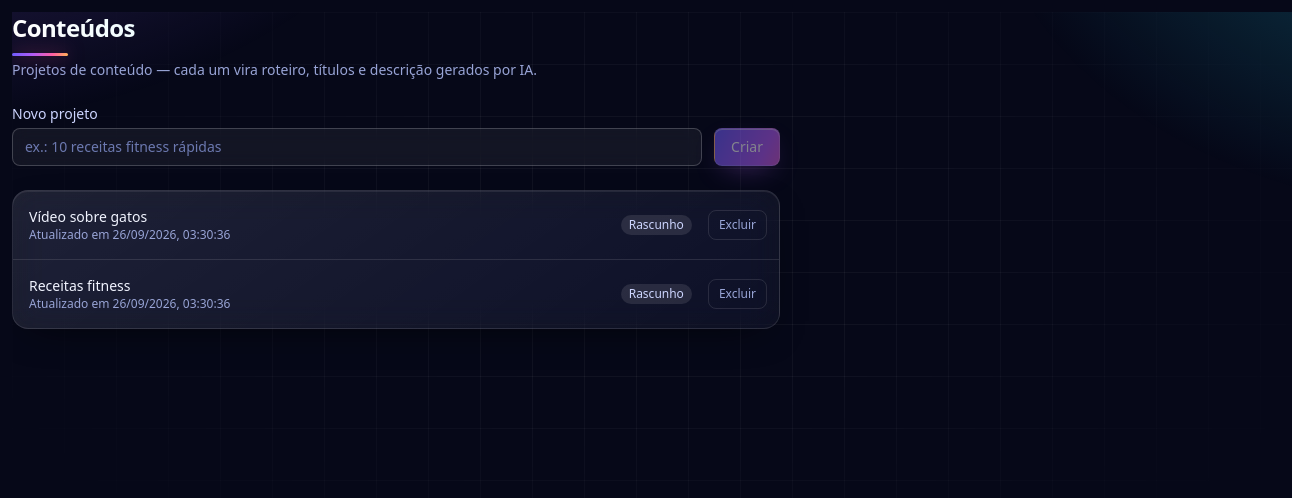
it: ContentProjectsPage › excluir conteúdo › exclui depois de confirmar e tira o item da lista
Click the button with aria-label "Excluir conteúdo Vídeo sobre gatos" at (737, 225), box [708,210,767,240]
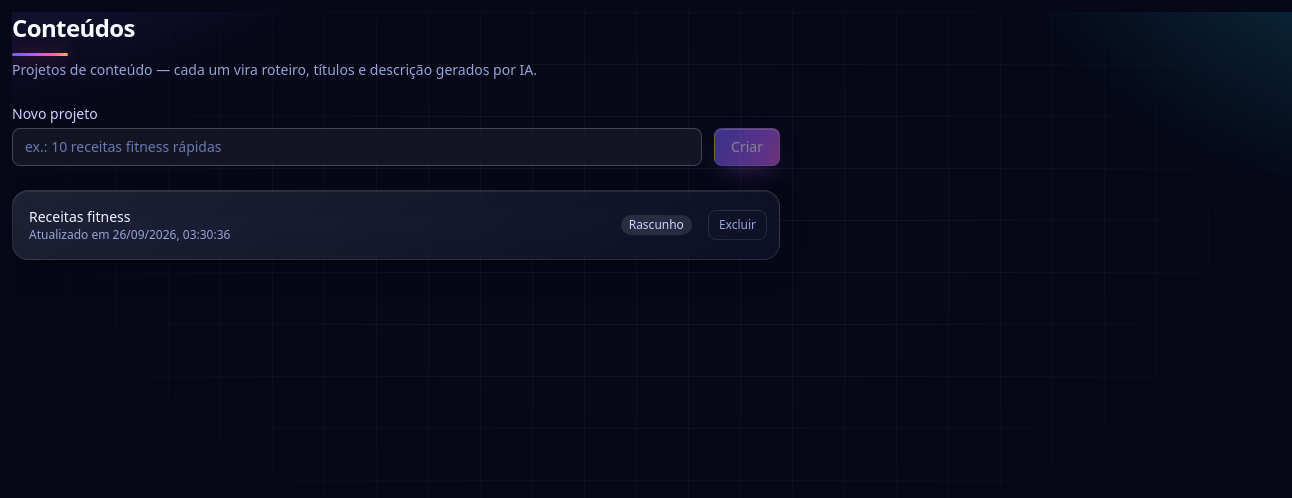
Check: the text "Receitas fitness" is shown, box [29,207,130,226]
Check: the link "Vídeo sobre gatos" is gone
